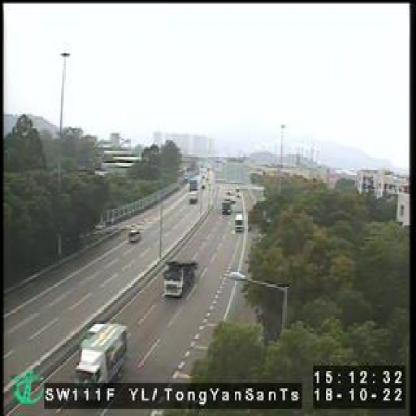Car: (220, 196, 235, 216), (129, 228, 143, 242)
Truck: (73, 320, 127, 386), (163, 259, 199, 300), (234, 213, 245, 232)
